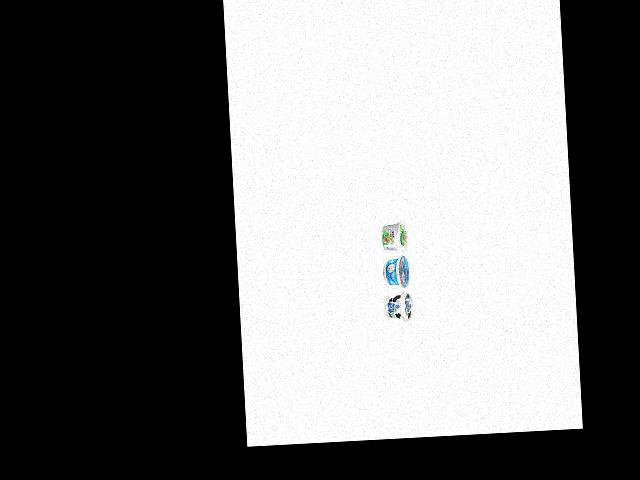cotage: (378, 218, 410, 255)
